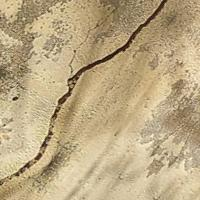crack: (2, 0, 173, 199)
